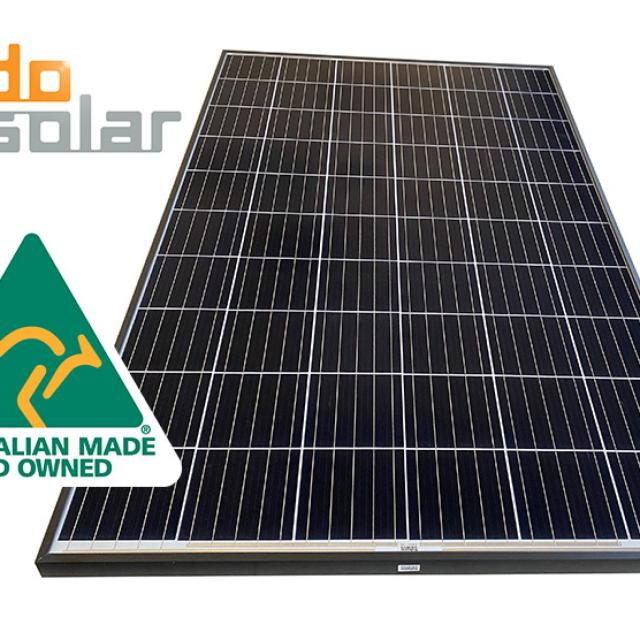clean-solar-panel: (38, 51, 640, 575)
